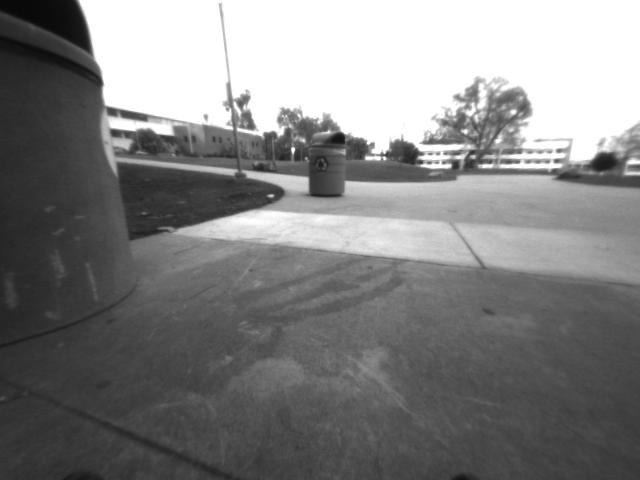trashcan: (1, 1, 135, 366)
